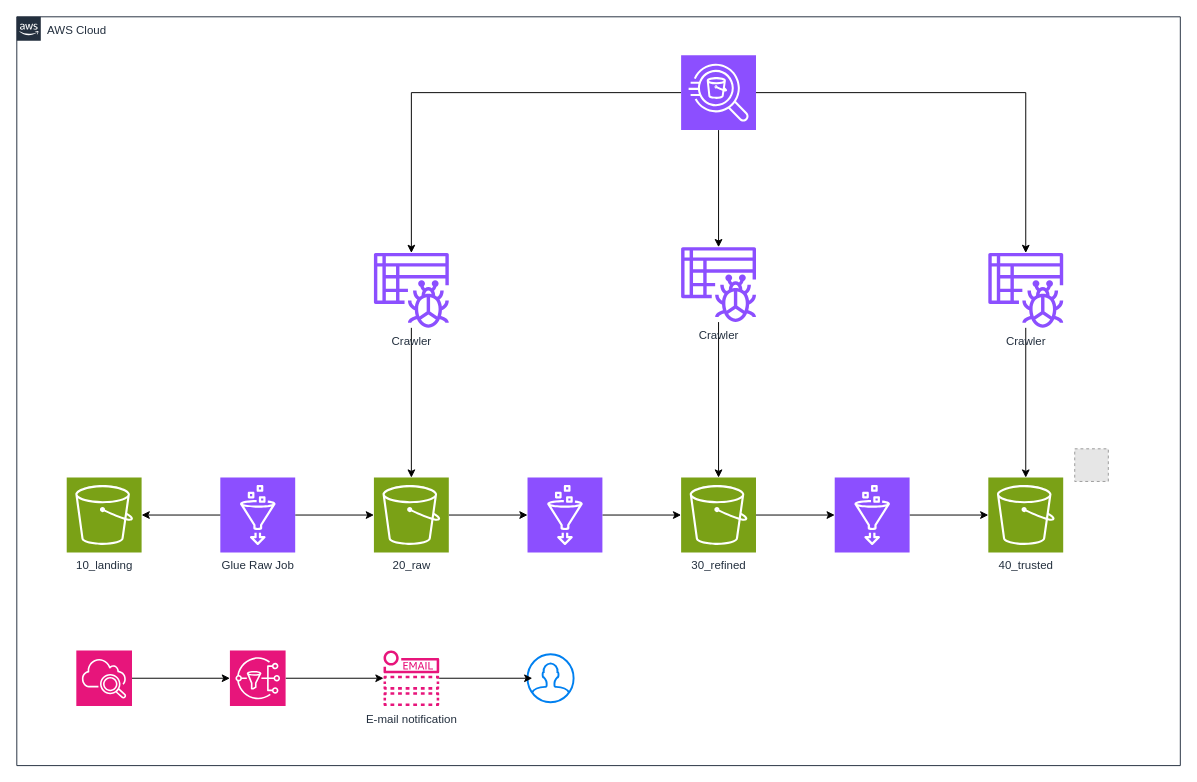
Some shapes in this 1197 by 782 pixel diagram are drawn without their labels. Grey dashed boxes stand in for pictures. The centre of each missing label's shape, as x and y in pixels:
"Athena" goes at (x=718, y=92).
"Cloudwatch Alarms" goes at (x=103, y=677).
"Glue Refined Job" goes at (x=564, y=514).
"Glue Trusted Job" goes at (x=872, y=514).
"SNS" goes at (x=257, y=677).
